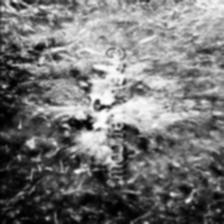Potentially Malignant Skin Tumors: (71, 58, 145, 164)
